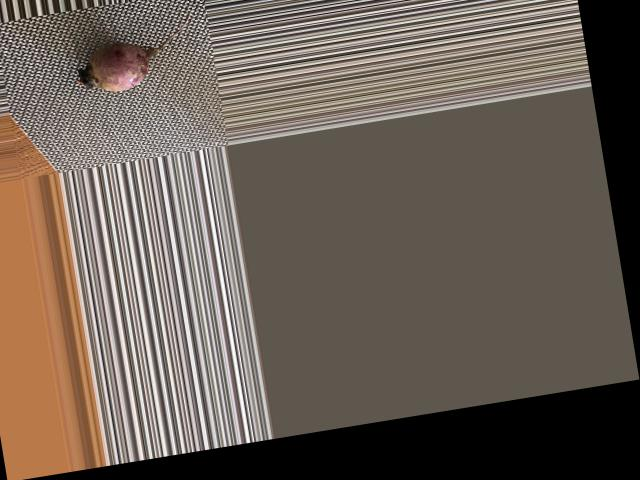beet: (67, 10, 201, 96)
